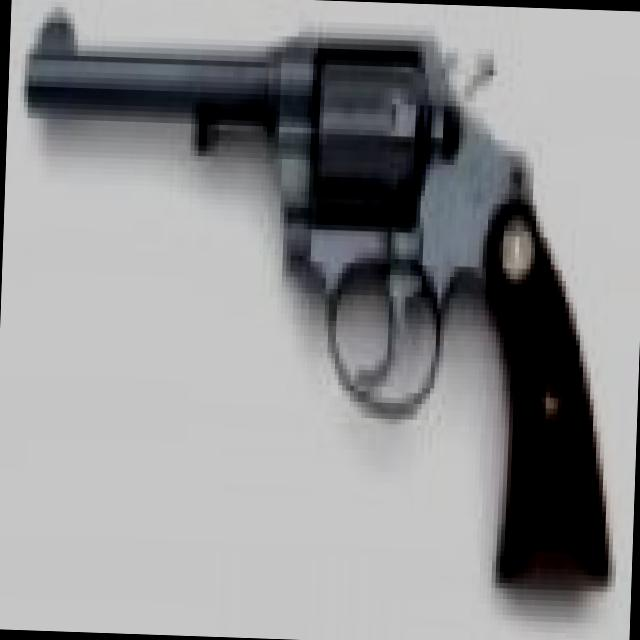handgun: (7, 0, 632, 593)
